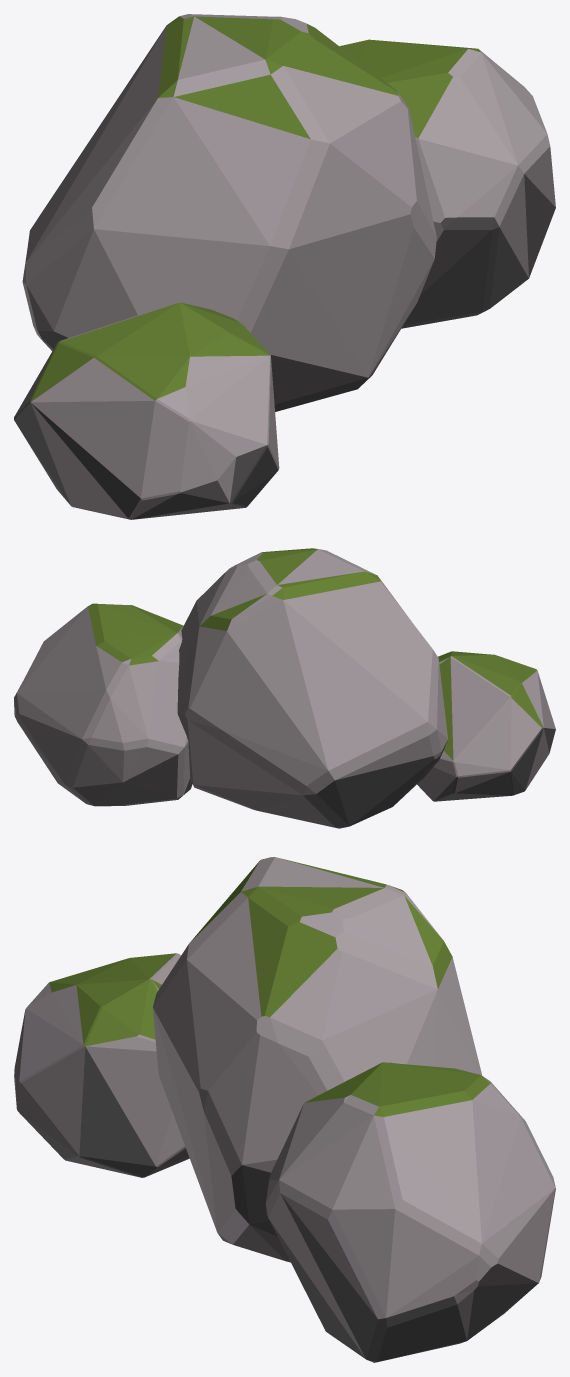
Rendered from shore_rock_b.glb.
3 views of the same model, one above another, from view 1: azimuth 30°, elevation 25°; view 2: azimuth 150°, elevation 25°; view 3: azimuth 270°, elevation 25° (orthographic). The views are drawn at different scales.
Parts seen in each view (by area): view 1: stone_dry, moss_wet, stone_wet; view 2: stone_dry, stone_wet, moss_wet; view 3: stone_dry, moss_wet, stone_wet.
Part boxes in pixels (left/top/right/bottom): stone_dry: left=14, top=14, right=555, bottom=519; moss_wet: left=30, top=16, right=480, bottom=401; stone_wet: left=14, top=174, right=555, bottom=519; stone_dry: left=14, top=549, right=555, bottom=800; stone_wet: left=15, top=713, right=555, bottom=828; moss_wet: left=88, top=548, right=543, bottom=760; stone_dry: left=14, top=857, right=555, bottom=1357; moss_wet: left=49, top=857, right=490, bottom=1116; stone_wet: left=14, top=1047, right=538, bottom=1362.
Bounding box in the file's own units: 1.26 × 0.6462 × 0.9601.
